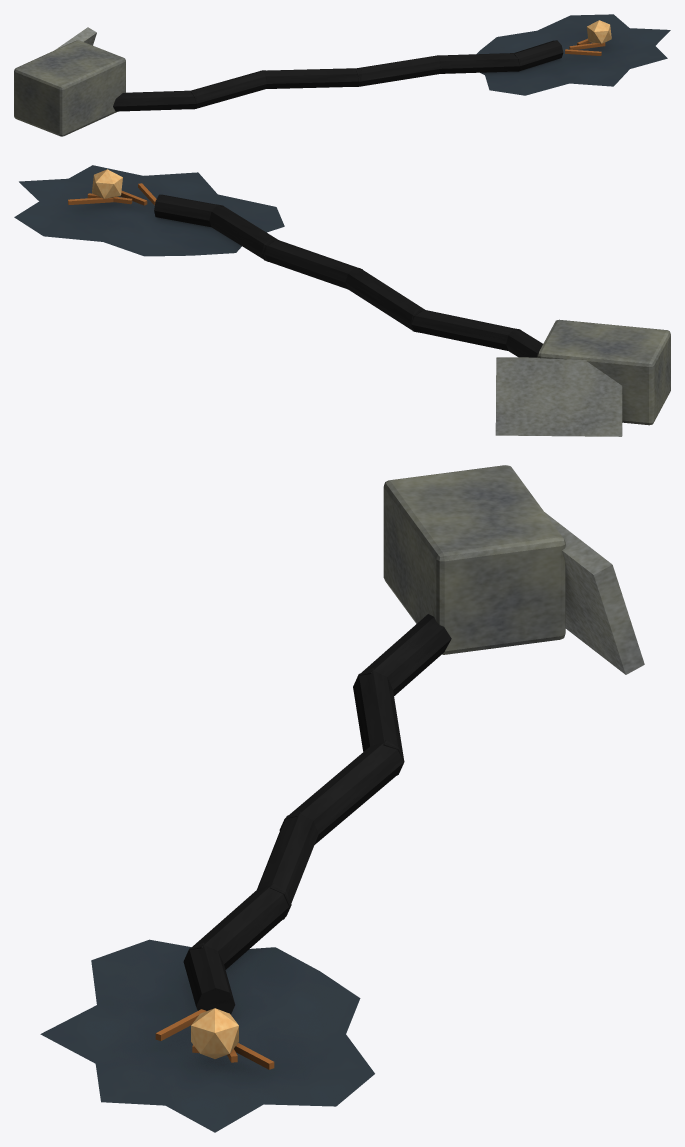
Rendered from trap_city_light.glb.
3 renders of one model, top to bottom at view 1: azimuth 30°, elevation 25°; view 2: azimuth 150°, elevation 25°; view 3: azimuth 270°, elevation 25°, orthographic. The views are drawn at different scales.
Parts seen in each view (by area): view 1: trap_city_light.001; view 2: trap_city_light.001; view 3: trap_city_light.001.
Part boxes in pixels (box(x1,y1,x2,y2)): trap_city_light.001: box(14, 14, 670, 136); trap_city_light.001: box(14, 165, 670, 436); trap_city_light.001: box(40, 465, 644, 1132).
Bounding box in the file's own units: 2.39 × 0.231 × 1.07.
5 materials, 5 textured.
